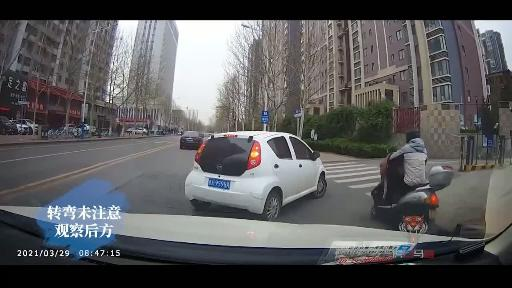Bike: (372, 129, 454, 229)
CAR: (183, 126, 332, 214)
